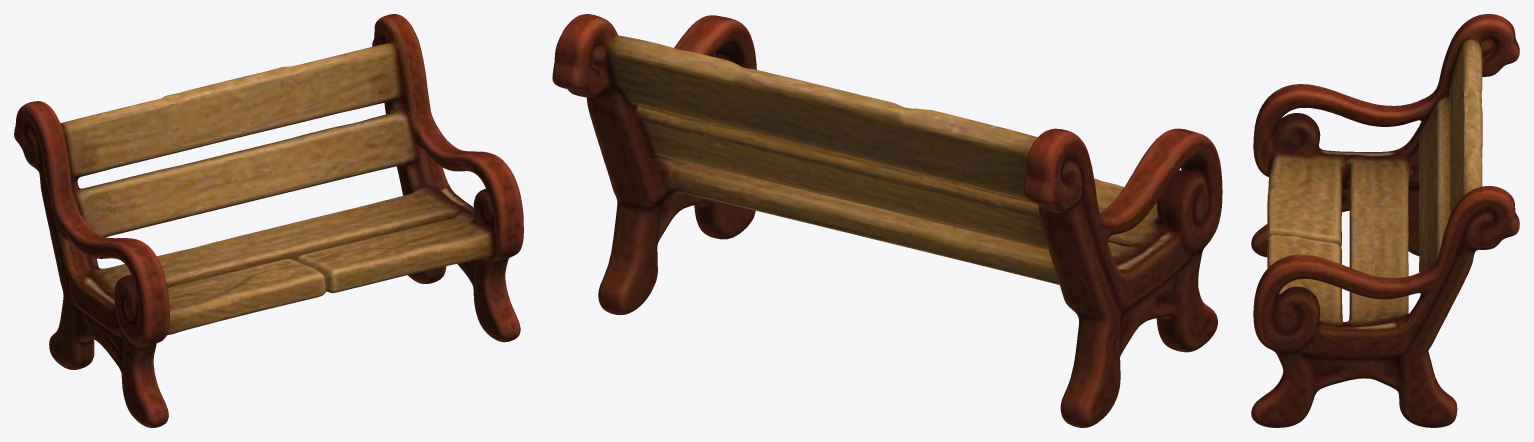
Rendered from p_banco.glb.
3 renders of one model, left to right at view 1: azimuth 30°, elevation 25°; view 2: azimuth 150°, elevation 25°; view 3: azimuth 270°, elevation 25°, orthographic. The views are drawn at different scales.
Bounding box in the file's own units: 1.9 × 1.15 × 1.17.
1 material, 1 textured.
